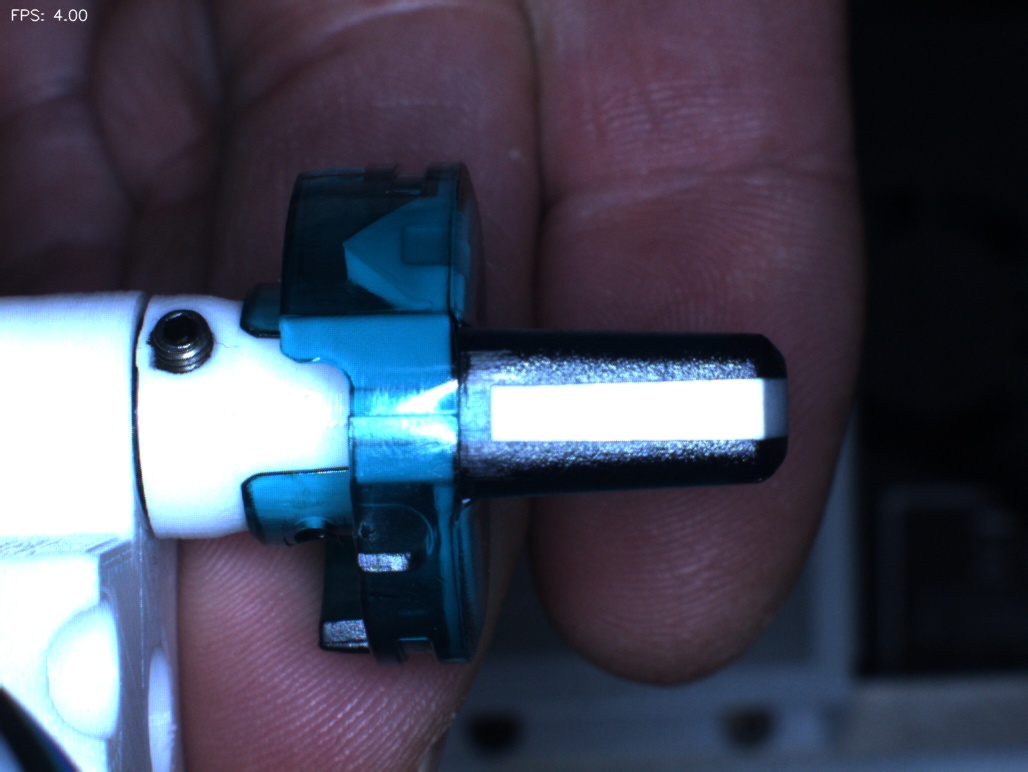DentOk: (313, 205, 390, 298)
